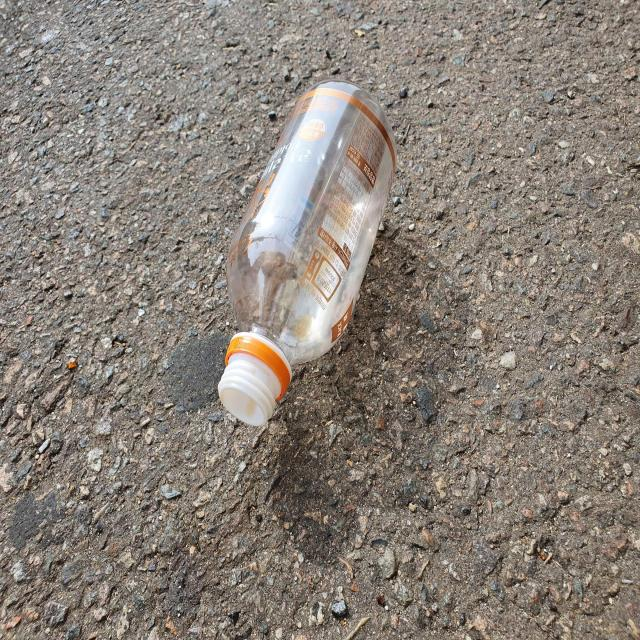plastic: (217, 80, 396, 426)
